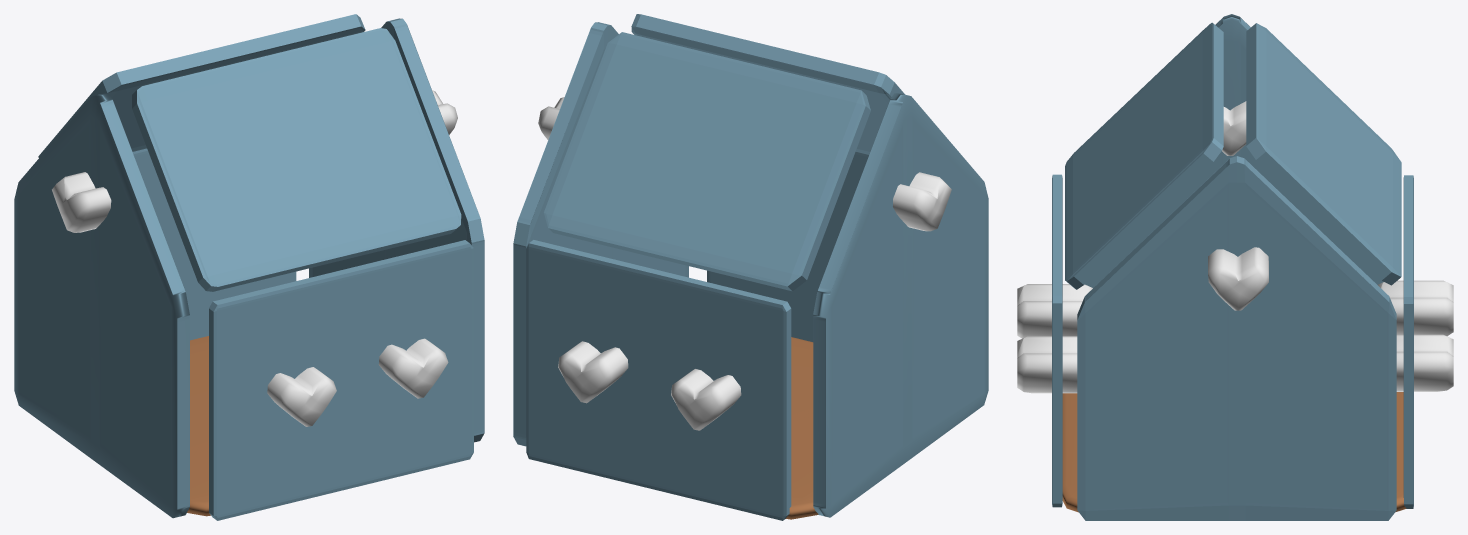
Rendered from HuisjeDoorzichtig1.1.fbx.
3 renders of one model, left to right at view 1: azimuth 30°, elevation 25°; view 2: azimuth 150°, elevation 25°; view 3: azimuth 270°, elevation 25°, orthographic.
Visible parts, largest first — view 1: Cube.012, LeftWall, BackWall, FrontWall, Cube.009, LeftWall.001, Floor, Cube.014, Cube.013, Cube.015; view 2: Cube.009, LeftWall.001, BackWall, FrontWall, Cube.012, LeftWall, Floor, Cube.011, Cube.010, Cube.015; view 3: FrontWall, Cube.012, Cube.009, BackWall, LeftWall, LeftWall.001, Cube.008, Cube.013, Cube.010, Cube.014, Floor, Cube.011 (+1 smaller).
Part boxes in pixels (left/top/right/bottom): Cube.012: left=132, top=28, right=461, bottom=291; LeftWall: left=209, top=240, right=473, bottom=520; BackWall: left=14, top=93, right=189, bottom=518; FrontWall: left=309, top=18, right=484, bottom=442; Cube.009: left=38, top=14, right=365, bottom=157; LeftWall.001: left=132, top=148, right=296, bottom=340; Floor: left=187, top=336, right=210, bottom=516; Cube.014: left=267, top=367, right=336, bottom=426; Cube.013: left=378, top=338, right=448, bottom=398; Cube.015: left=52, top=172, right=111, bottom=232; Cube.009: left=544, top=32, right=870, bottom=291; LeftWall.001: left=526, top=240, right=791, bottom=520; BackWall: left=813, top=93, right=988, bottom=517; FrontWall: left=513, top=22, right=688, bottom=446; Cube.012: left=631, top=14, right=904, bottom=154; LeftWall: left=707, top=152, right=868, bottom=341; Floor: left=786, top=337, right=818, bottom=519; Cube.011: left=558, top=341, right=628, bottom=403; Cube.010: left=671, top=369, right=741, bottom=430; Cube.015: left=893, top=172, right=951, bottom=231; FrontWall: left=1077, top=156, right=1396, bottom=520; Cube.012: left=1065, top=22, right=1223, bottom=289; Cube.009: left=1246, top=23, right=1401, bottom=285; BackWall: left=1085, top=14, right=1383, bottom=287; LeftWall: left=1052, top=174, right=1062, bottom=507; LeftWall.001: left=1403, top=175, right=1413, bottom=508; Cube.008: left=1208, top=247, right=1268, bottom=310; Cube.013: left=1017, top=336, right=1077, bottom=393; Cube.010: left=1378, top=280, right=1453, bottom=336; Cube.014: left=1017, top=284, right=1092, bottom=338; Floor: left=1062, top=392, right=1406, bottom=512; Cube.011: left=1396, top=334, right=1453, bottom=391.
Bounding box in the file's own units: 40.8 × 38.19 × 41.04.
